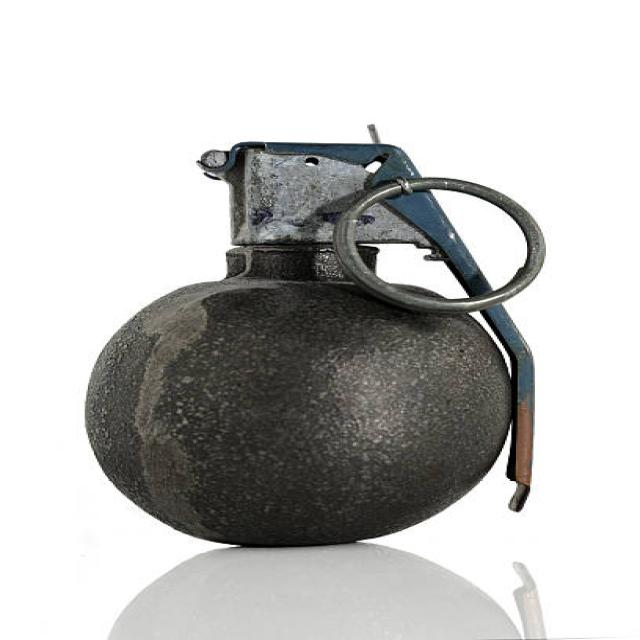grenade: (64, 124, 554, 553)
